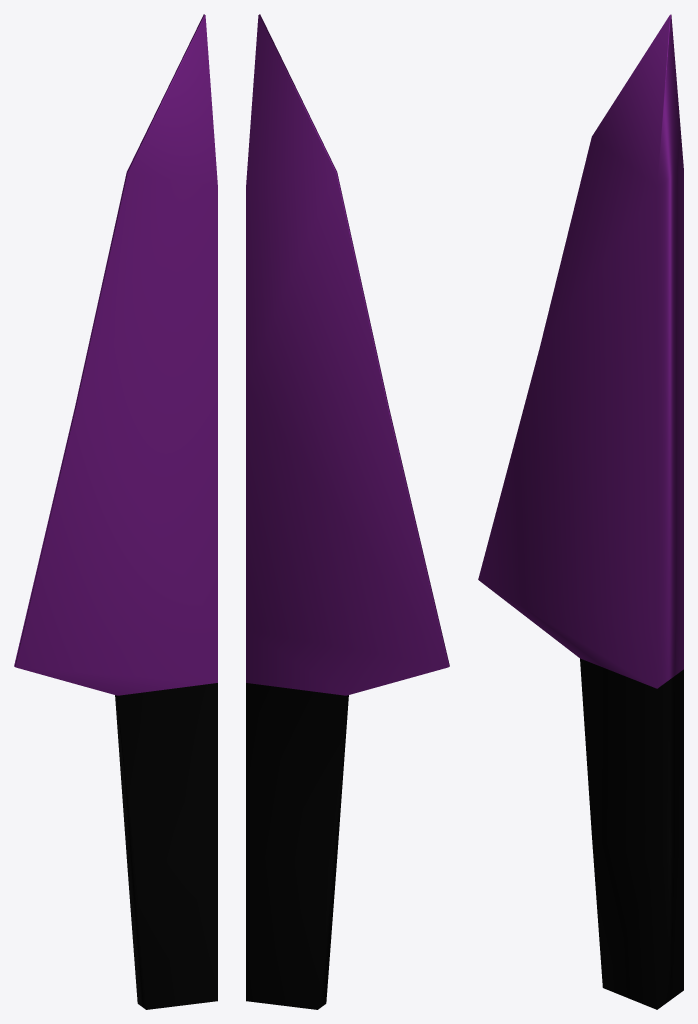
File: knife.fbx
3 renders of one model, left to right at view 1: azimuth 30°, elevation 25°; view 2: azimuth 150°, elevation 25°; view 3: azimuth 330°, elevation 25°, orthographic.
Parts seen in each view (by area): view 1: plasmasword; view 2: plasmasword; view 3: plasmasword.
Boxes of the visible parts, x1,y1,x2,y2 form: plasmasword: [14, 14, 217, 1009]; plasmasword: [246, 14, 449, 1009]; plasmasword: [478, 14, 683, 1009].
Size of the model in its own units: 52.09 by 256 by 12.55.
